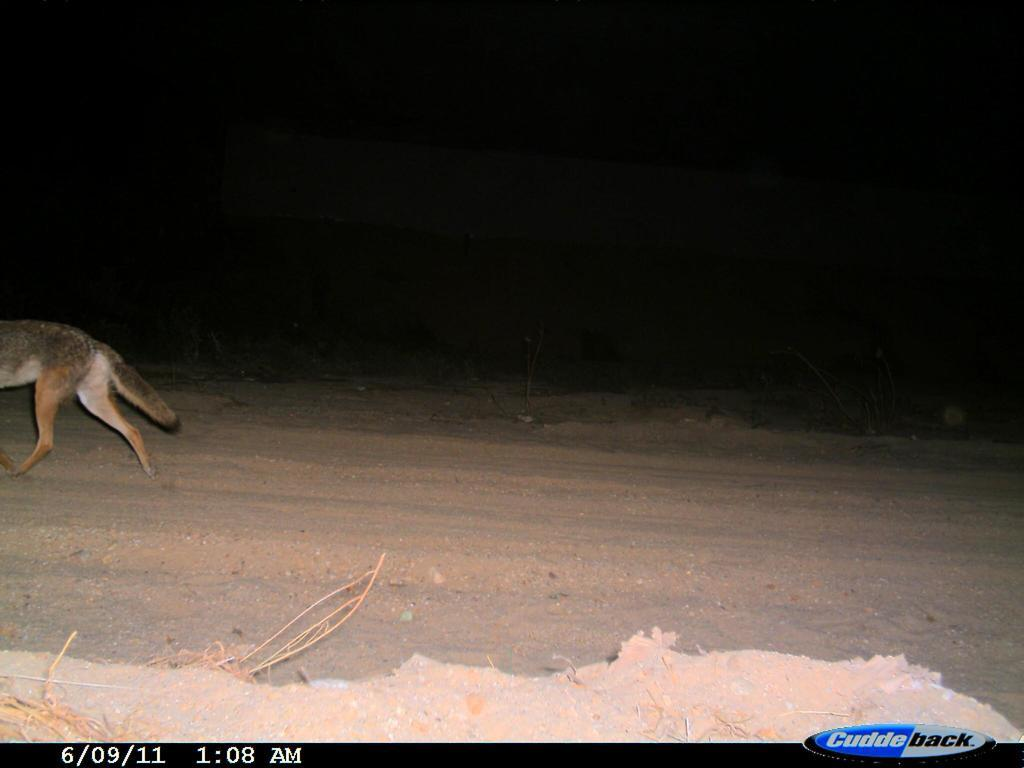coyote: (3, 313, 181, 487)
